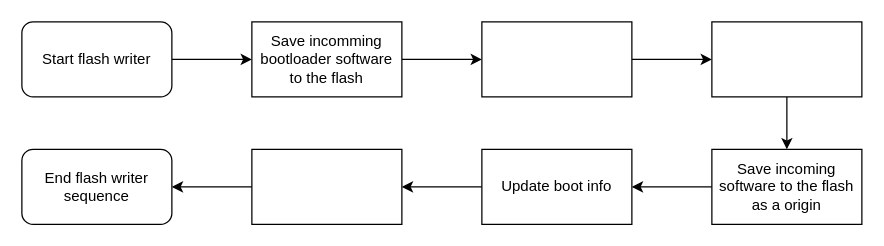
The diagram is 884 pixels wide and 246 high, and some of its shapes have lost their labels. Here are the shapes that lost their labels. From the top down, the centre of each, then its label:
At pixel 556 59: "Create device info & booting info structure".
At pixel 786 59: "Lock self memory in the flash".
At pixel 326 186: "Update LED signalization".
